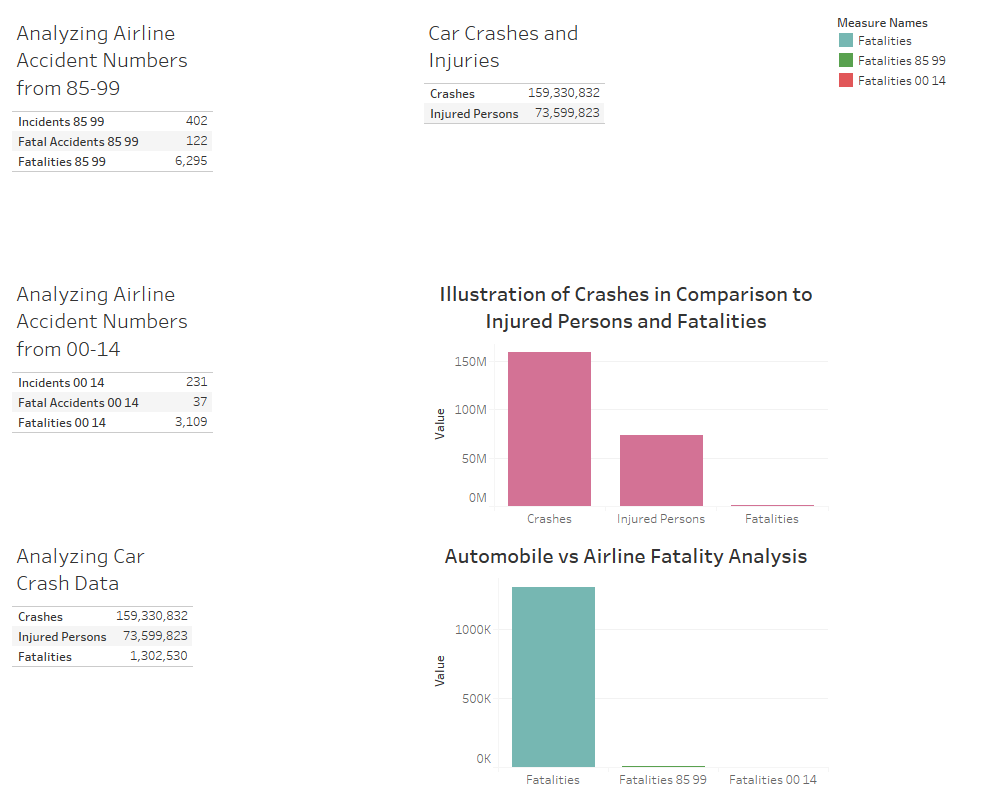

What the dashboard file says about the page in this screenshot:
{"tool":"tableau","page":{"name":"Dashboard 1","canvas":[1000,1000],"units":"permille","ordinal":0},"visuals":[{"type":"worksheet","box":[0,0,1000,1000]},{"type":"worksheet","param":"vert","box":[6.9,15.2,986.1,969.5]},{"type":"worksheet","box":[6.9,15.2,986.1,78.1]},{"type":"worksheet","param":"horz","box":[6.9,93.3,986.1,891.4]},{"type":"worksheet","box":[6.9,93.3,847.6,891.4]},{"type":"worksheet","param":"vert","box":[6.9,93.3,423.8,332.7]},{"type":"worksheet","title":"Sheet 1","mark":"Automatic","rows":["incidents_85_99","fatal_accidents_85_99","fatalities_85_99"],"cols":["airline"],"box":[6.9,93.3,423.8,332.7]},{"type":"worksheet","title":"Sheet 3","mark":"Line","rows":["incidents_85_99","incidents_00_14"],"cols":["airline"],"box":[430.7,93.3,423.8,332.7]},{"type":"worksheet","param":"vert","box":[854.5,93.3,138.5,891.4]},{"type":"worksheet","title":"Sheet 6","mark":"Automatic","param":"[federated.1nsgdbd1svumo01df2qro1sdqmng].[sum:Calculation_1913748369736626179:qk","box":[854.5,93.3,138.5,123.8]},{"type":"worksheet","title":"Sheet 7","mark":"Automatic","param":"[federated.1nsgdbd1svumo01df2qro1sdqmng].[sum:fatal_accidents_00_14:qk]","box":[854.5,217.2,138.5,123.8]},{"type":"worksheet","title":"Sheet 8","mark":"Automatic","rows":["Calculation_1913748370008530949","Crashes"],"cols":["Year"],"box":[854.5,341,138.5,643.8]},{"type":"worksheet","title":"Sheet 2","mark":"Automatic","rows":["incidents_00_14","fatal_accidents_00_14","fatalities_00_14"],"cols":["airline"],"box":[6.9,426.1,423.8,234.7]},{"type":"worksheet","title":"Sheet 4","mark":"Line","rows":["fatal_accidents_00_14","fatal_accidents_85_99"],"cols":["airline"],"box":[430.7,426.1,423.8,322.2]},{"type":"worksheet","title":"Sheet 6","mark":"Automatic","box":[6.9,660.8,211.9,324]},{"type":"worksheet","title":"Sheet 7","mark":"Automatic","box":[218.8,660.8,211.9,324]},{"type":"worksheet","title":"Sheet 5","mark":"Line","rows":["fatalities_85_99","fatalities_00_14"],"cols":["airline"],"box":[430.7,748.3,423.8,236.4]}]}

Visuals, with their boxes on the dashboard's canvas, which has no fixed pixel size, in thousandths of its width and height (x1, y1, x2, y2). These are canvas units, not pixel positions in the 1000x800 screenshot, which may show the page scaled, cropped or inside an application window:
worksheet: bbox=(0, 0, 1000, 1000)
worksheet: bbox=(7, 15, 993, 985)
worksheet: bbox=(7, 15, 993, 93)
worksheet: bbox=(7, 93, 993, 985)
worksheet: bbox=(7, 93, 854, 985)
worksheet: bbox=(7, 93, 431, 426)
"Sheet 1" worksheet: bbox=(7, 93, 431, 426)
"Sheet 3" worksheet (Line marks): bbox=(431, 93, 854, 426)
worksheet: bbox=(854, 93, 993, 985)
"Sheet 6" worksheet: bbox=(854, 93, 993, 217)
"Sheet 7" worksheet: bbox=(854, 217, 993, 341)
"Sheet 8" worksheet: bbox=(854, 341, 993, 985)
"Sheet 2" worksheet: bbox=(7, 426, 431, 661)
"Sheet 4" worksheet (Line marks): bbox=(431, 426, 854, 748)
"Sheet 6" worksheet: bbox=(7, 661, 219, 985)
"Sheet 7" worksheet: bbox=(219, 661, 431, 985)
"Sheet 5" worksheet (Line marks): bbox=(431, 748, 854, 985)
